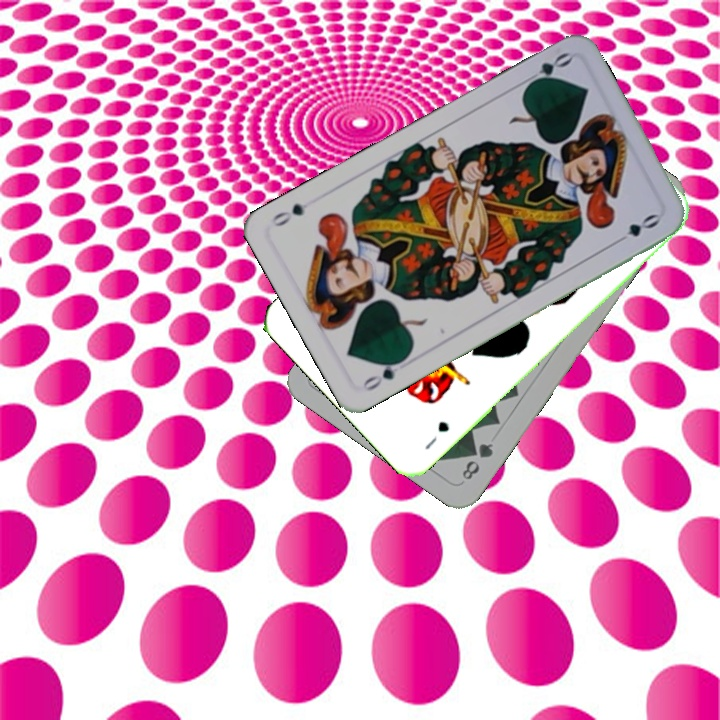G8: (457, 439, 496, 483)
GO: (519, 48, 575, 90), (359, 353, 409, 394)
GU: (421, 417, 452, 453)
